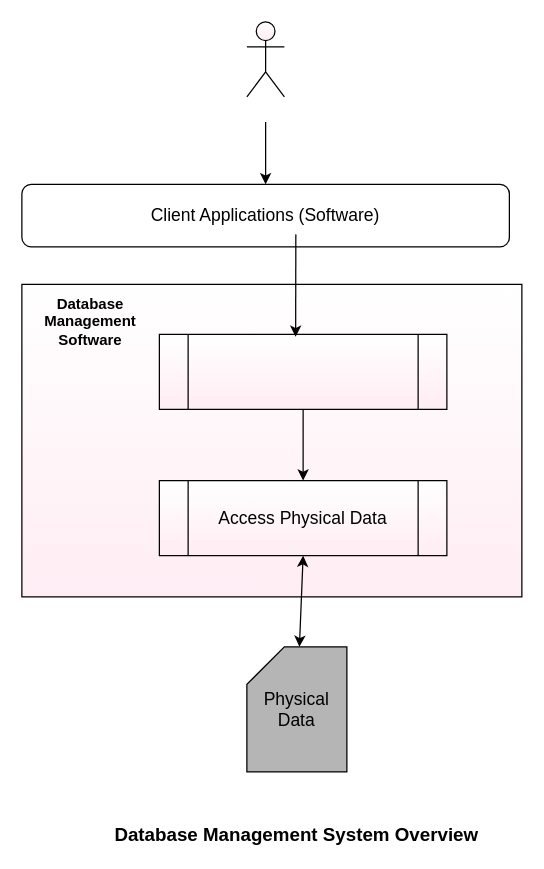
This 544x869 diagram has some shape labels left out. Here are the shapes that lost their labels. From the top down, the box of each, then its label:
(246, 21, 284, 97): User
(158, 333, 447, 409): Process Queries
